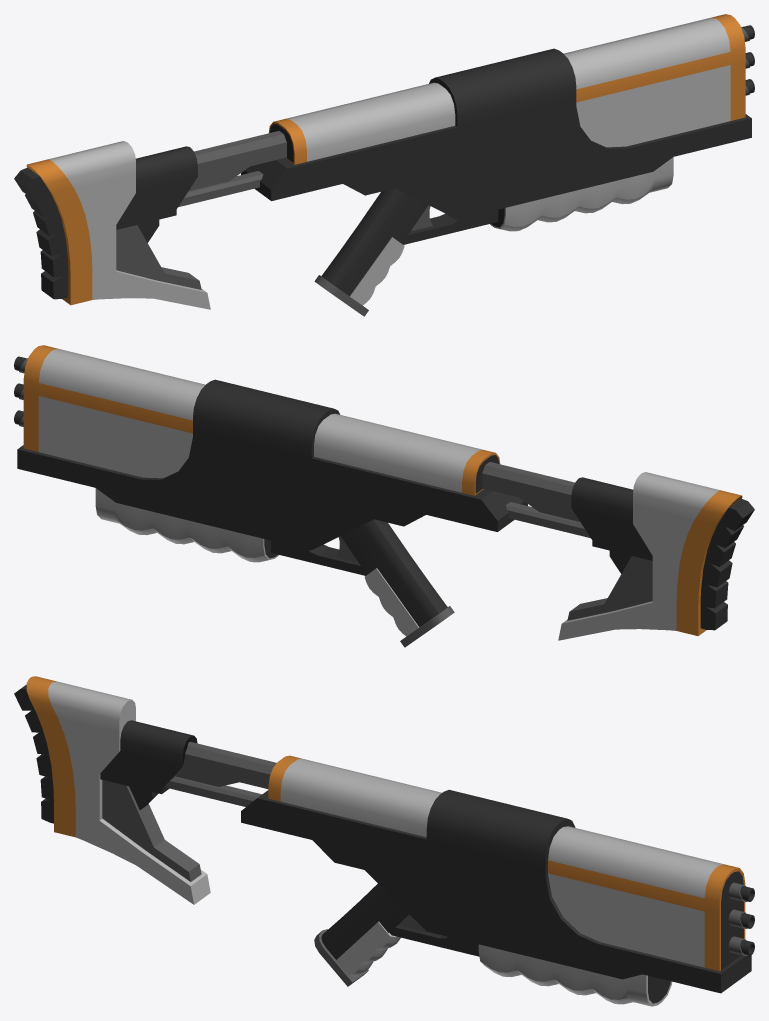
The picture shows the model from 3 angles, top to bottom: view 1: azimuth 30°, elevation 25°; view 2: azimuth 150°, elevation 25°; view 3: azimuth 330°, elevation 25°; orthographic projection.
Visible parts, largest first — view 1: AR_1; view 2: AR_1; view 3: AR_1.
Part boxes in pixels (<box>): AR_1: <box>14,14,754,316</box>; AR_1: <box>14,345,754,647</box>; AR_1: <box>14,676,754,1006</box>.
Size of the model in its own units: 1.89 by 0.5528 by 0.1366.
